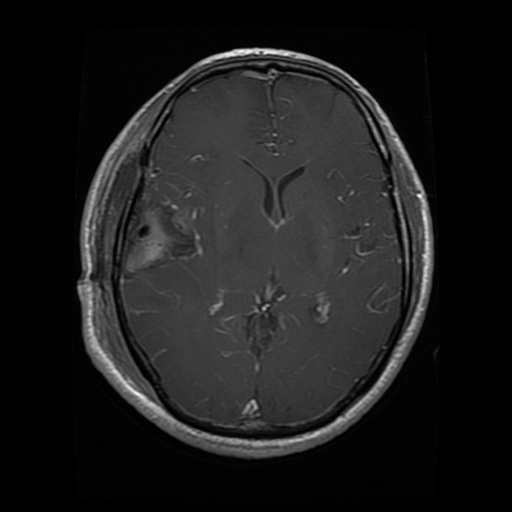glioma: (122, 168, 206, 276)
